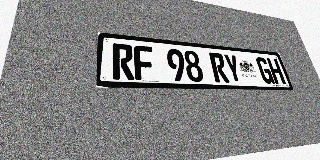8: (183, 50, 204, 82)
9: (166, 48, 187, 81)
F: (133, 45, 155, 81)
G: (255, 57, 275, 84)
H: (266, 58, 286, 84)
R: (112, 43, 134, 80), (209, 52, 230, 83)
Y: (223, 54, 243, 83)
